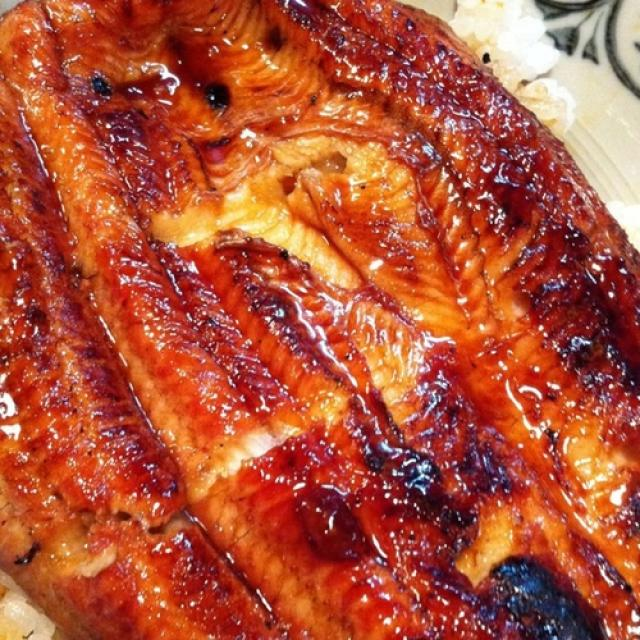熟制海鲜: (5, 5, 631, 618)
